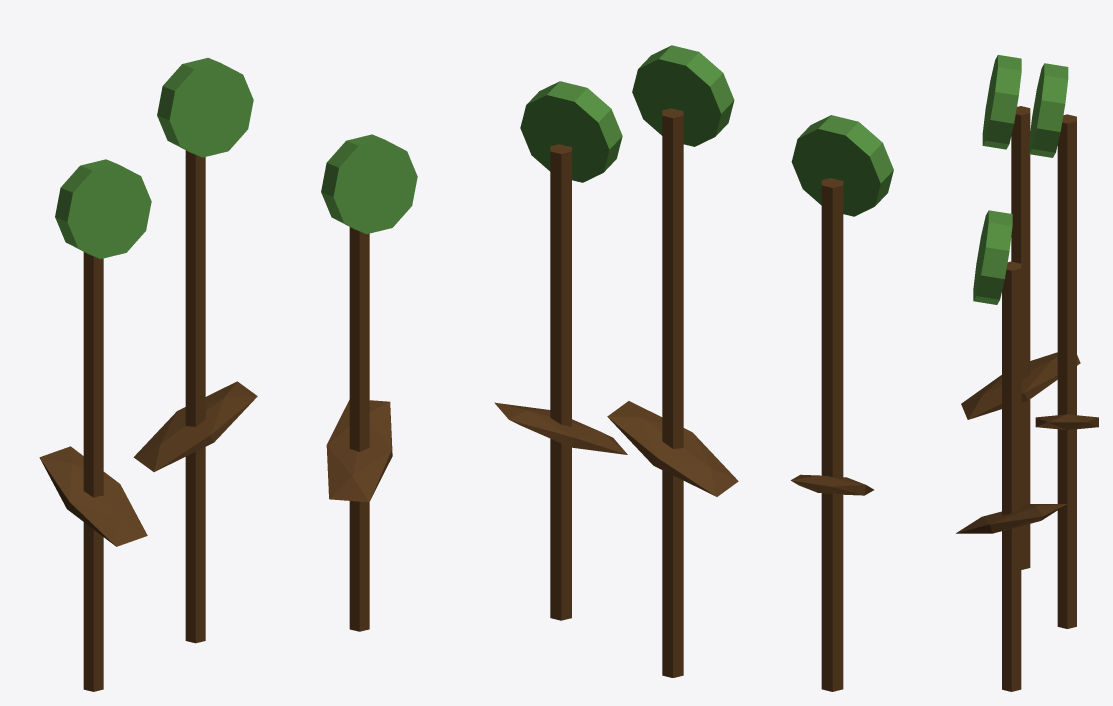
Rendered from M14_Sunflowers.fbx.
3 renders of one model, left to right at view 1: azimuth 30°, elevation 25°; view 2: azimuth 150°, elevation 25°; view 3: azimuth 270°, elevation 25°, orthographic. The views are drawn at different scales.
Visible parts, largest first — view 1: M14_Sunflowers; view 2: M14_Sunflowers; view 3: M14_Sunflowers.
Part boxes in pixels (<box>): M14_Sunflowers: <box>39,58,417,691</box>; M14_Sunflowers: <box>494,45,893,691</box>; M14_Sunflowers: <box>956,55,1098,691</box>.
Bounding box in the file's own units: 5 × 7.05 × 1.55.
Materials: 1 (1 with a texture image).
